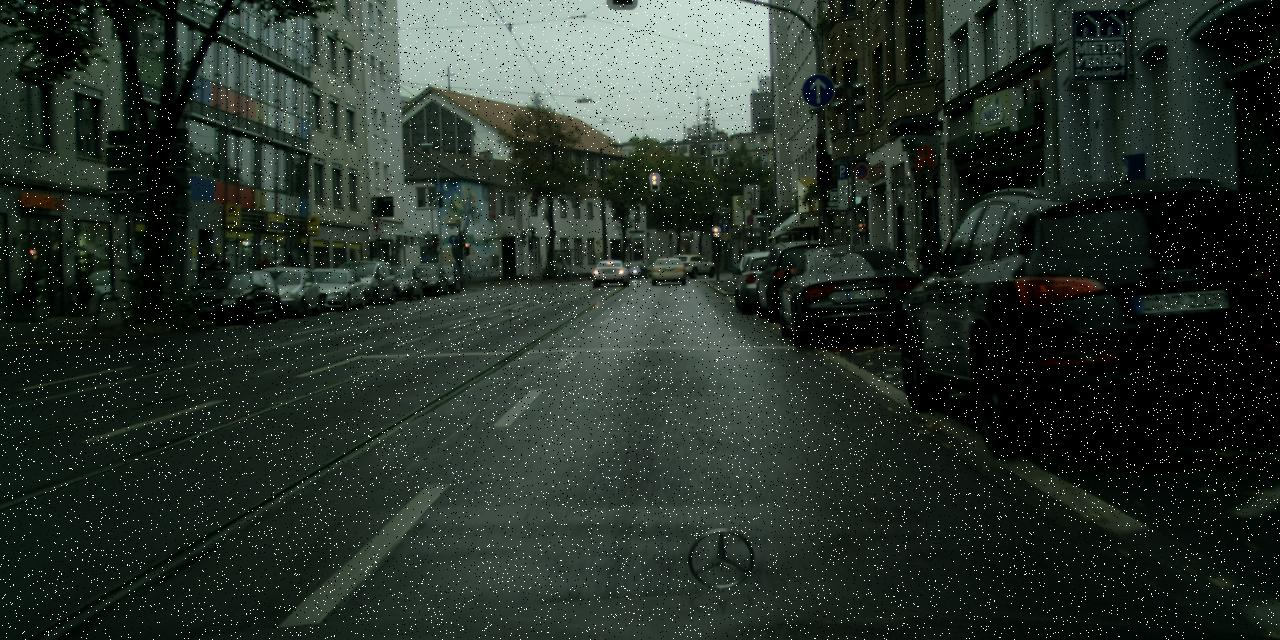ped: (257, 252, 276, 302), (191, 251, 210, 298), (210, 253, 228, 299), (280, 254, 298, 300)
